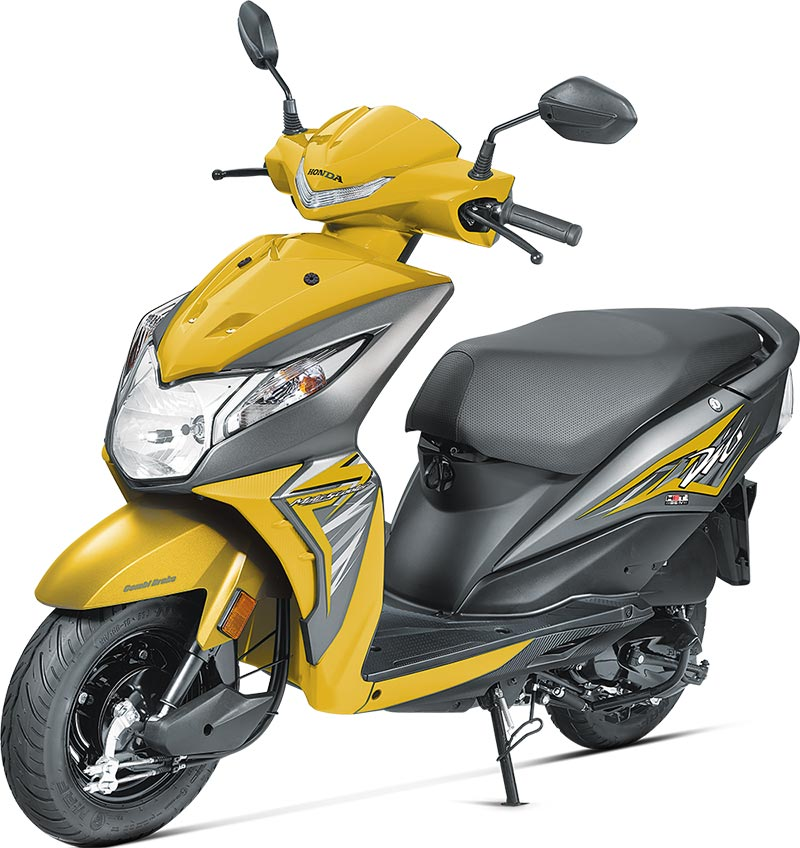bike: (5, 2, 797, 847)
